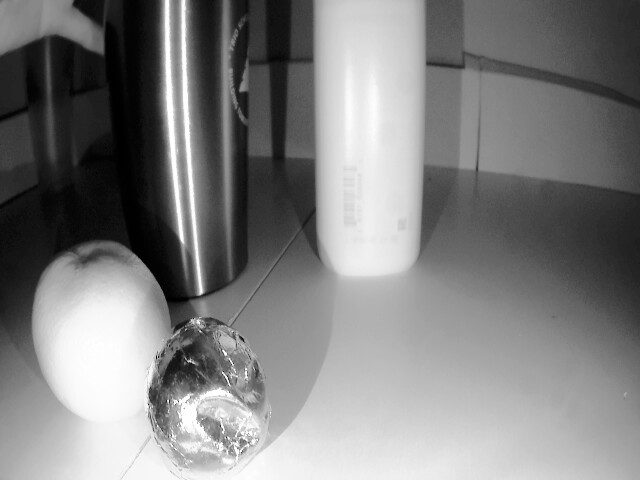silver: (143, 310, 282, 463)
